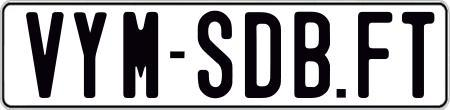B: (294, 10, 336, 99)
D: (244, 12, 280, 103)
F: (355, 12, 389, 99)
M: (123, 11, 160, 101)
S: (198, 11, 234, 101)
T: (402, 10, 433, 99)
V: (23, 12, 67, 103)
Y: (72, 11, 109, 102)
